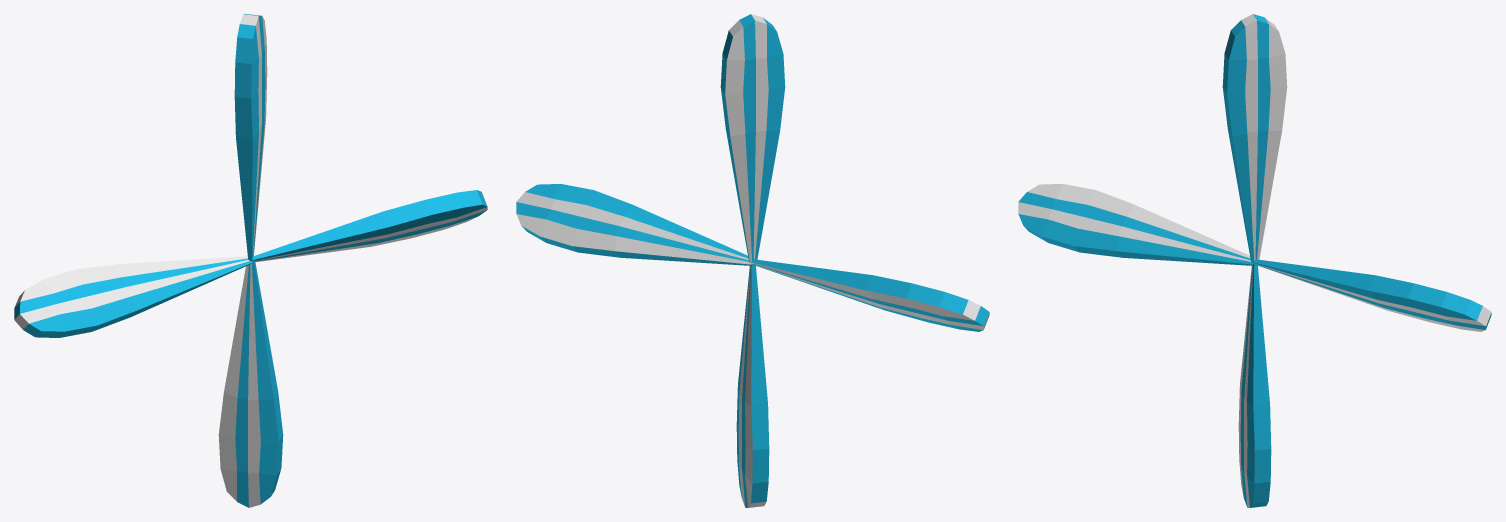
File: Propeller mock Up V2.fbx
The picture shows the model from 3 angles, left to right: view 1: azimuth 30°, elevation 25°; view 2: azimuth 150°, elevation 25°; view 3: azimuth 330°, elevation 25°; orthographic projection.
Parts seen in each view (by area): view 1: Propeller 2; view 2: Propeller 2; view 3: Propeller 2.
Part boxes in pixels (x1,y1,x2,y2): Propeller 2: [14, 14, 487, 507]; Propeller 2: [516, 14, 989, 507]; Propeller 2: [1018, 14, 1491, 507].
Size of the model in its own units: 306 by 306 by 31.69.
